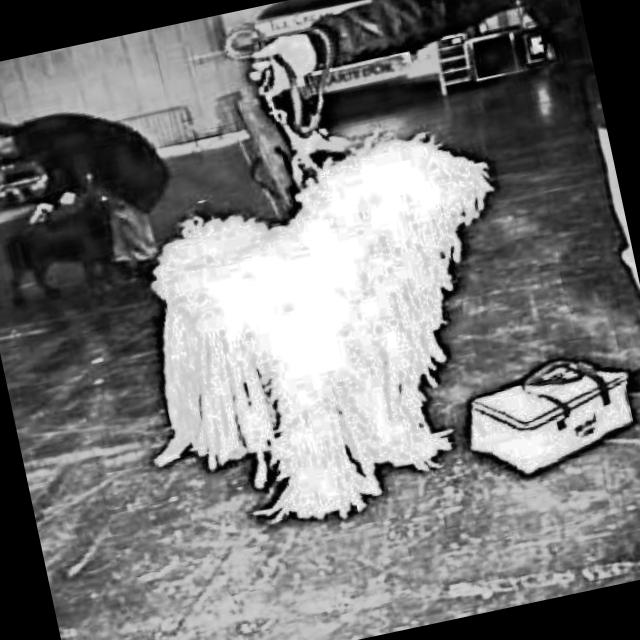Dog: (90, 117, 566, 558)
Person: (0, 84, 181, 247)
